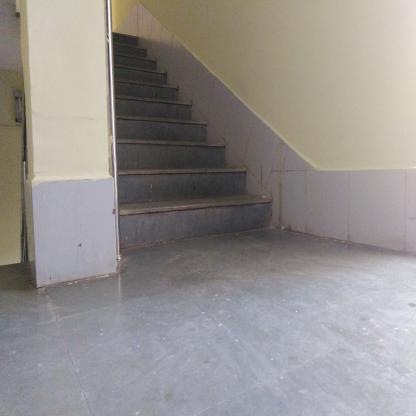stairs: (123, 96, 194, 253)
